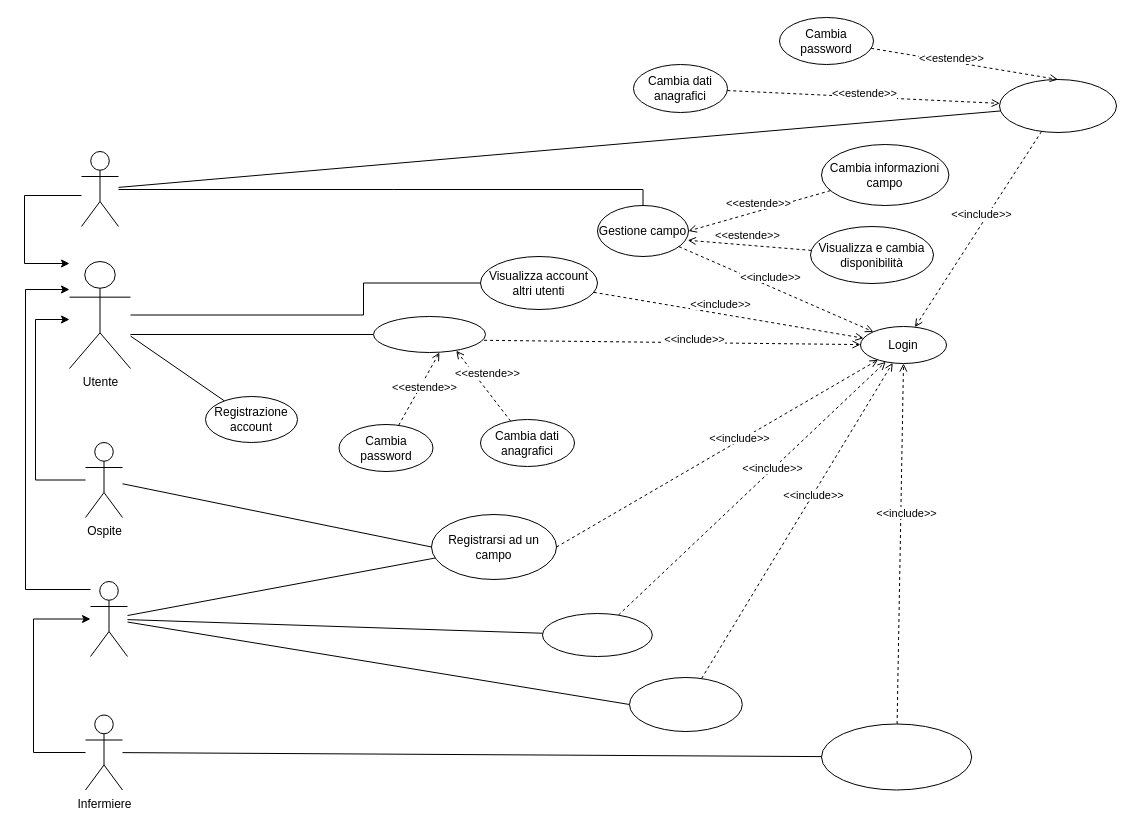
Some shapes in this 1134 by 828 pixel diagram are drawn without their labels. Here are the shapes that lost their labels. From the top down, the centre of each, then its label:
At pixel 1057 105: "Gestione account altri utenti".
At pixel 99 188: "Admin".
At pixel 429 334: "Gestione account".
At pixel 109 618: "Volontario".
At pixel 597 634: "Modifica disponibilità".
At pixel 685 704: "Visualizza allergie utenti".
At pixel 896 756: "Visualizza e modifica dati medici".
